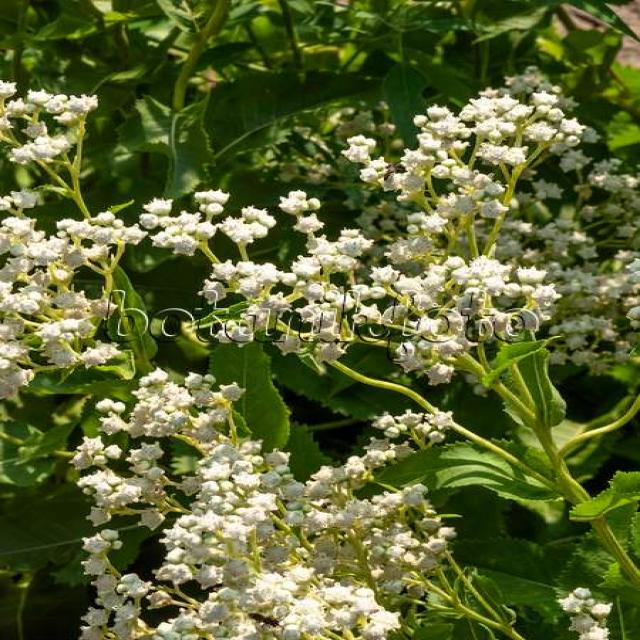Poisonous-Parthenium: (212, 83, 636, 445), (78, 436, 640, 640), (0, 82, 203, 522)
